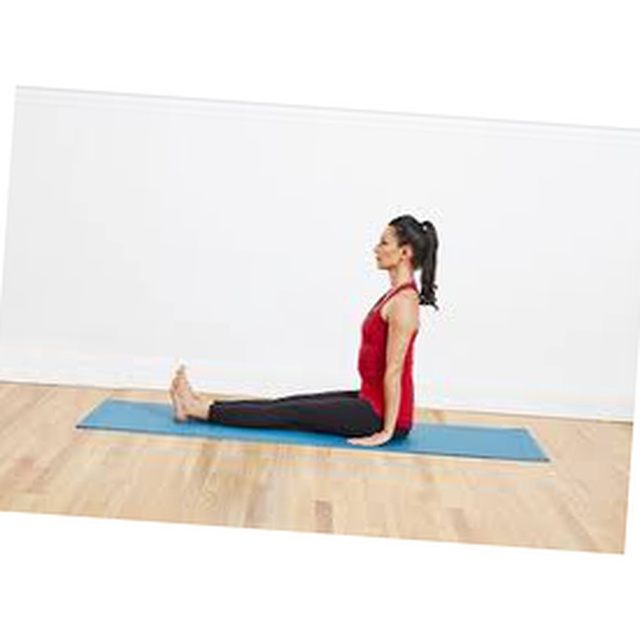Staff_Pose: (169, 214, 443, 449)
